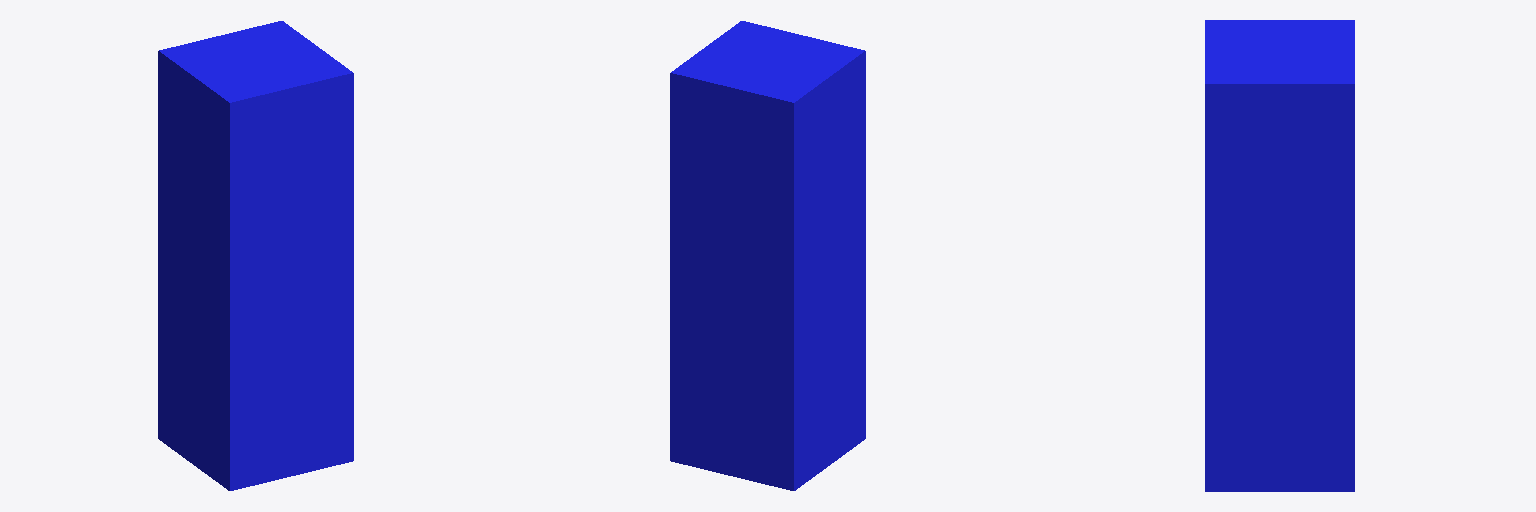
URDF robot description (random_box):
<?xml version='1.0' encoding='UTF-8'?>
<robot name="random_box">
  <link name="box">

    <inertial>
      <mass value="0.3"/>
      <origin xyz="0 0 0" rpy="0 0 0"/>
      <inertia ixx="0.1" ixy="0.1" ixz="0.1" iyy="0.1" iyz="0.1" izz="0.1"/>
    </inertial>

    <visual>
      <geometry>
        <box size="0.05 0.05 0.15"/>
      </geometry>
      <material name="color">
        <color rgba="0.16477837118630845 0.19369986938615202 0.9964930851407763 1"/>
      </material>
    </visual>
    <collision>
      <geometry>
        <box size="0.05 0.05 0.15"/>
      </geometry>

      <surface>
        <friction>
          <ode>
            <mu>100000000.0</mu>
            <mu2>100000000.0</mu2>
          </ode>
        </friction>
        <contact>
          <ode>
            <min_depth>0.003</min_depth>
          </ode>
        </contact>
      </surface>

    </collision>

  </link>
</robot>

--- Render facts (derived) ---
The picture shows the robot from 3 angles, left to right: view 1: azimuth 30°, elevation 25°; view 2: azimuth 150°, elevation 25°; view 3: azimuth 270°, elevation 25°; orthographic projection.
Model random_box with 1 links and 0 joints (none), rooted at box, posed all joints at 0.
Visible links, largest first — view 1: box; view 2: box; view 3: box.
Link boxes in pixels (<box>): box: <box>158,21,353,490</box>; box: <box>670,21,865,490</box>; box: <box>1205,20,1354,491</box>.
Size in the robot's own frame: 0.05 by 0.05 by 0.15 metres.
Geometry: primitives only (box / cylinder / sphere), no mesh files.